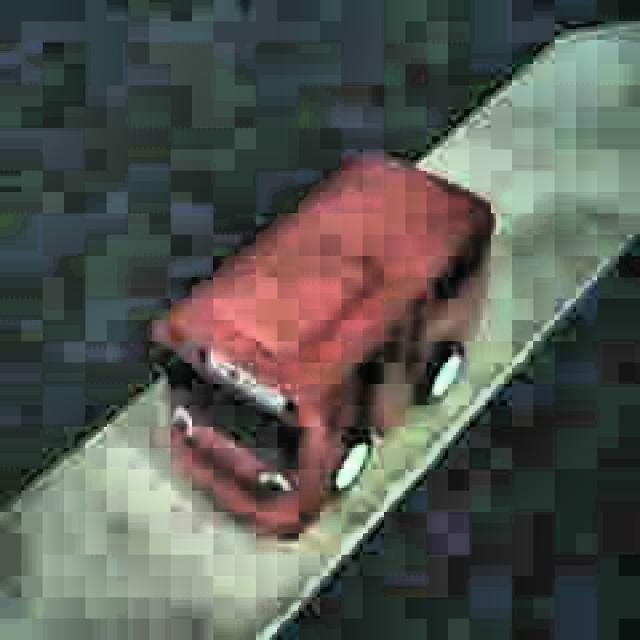bus: (152, 151, 498, 541)
